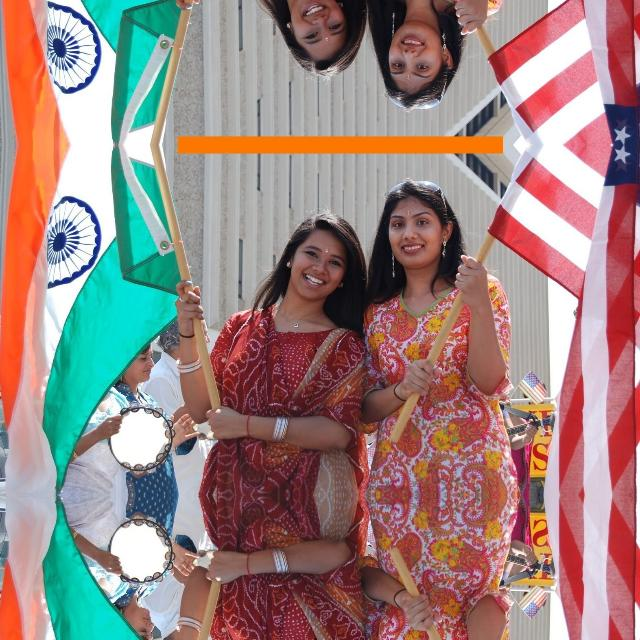person: (250, 194, 370, 406), (373, 170, 491, 362), (373, 0, 491, 118), (249, 0, 370, 93), (249, 583, 370, 640), (373, 626, 491, 640)
